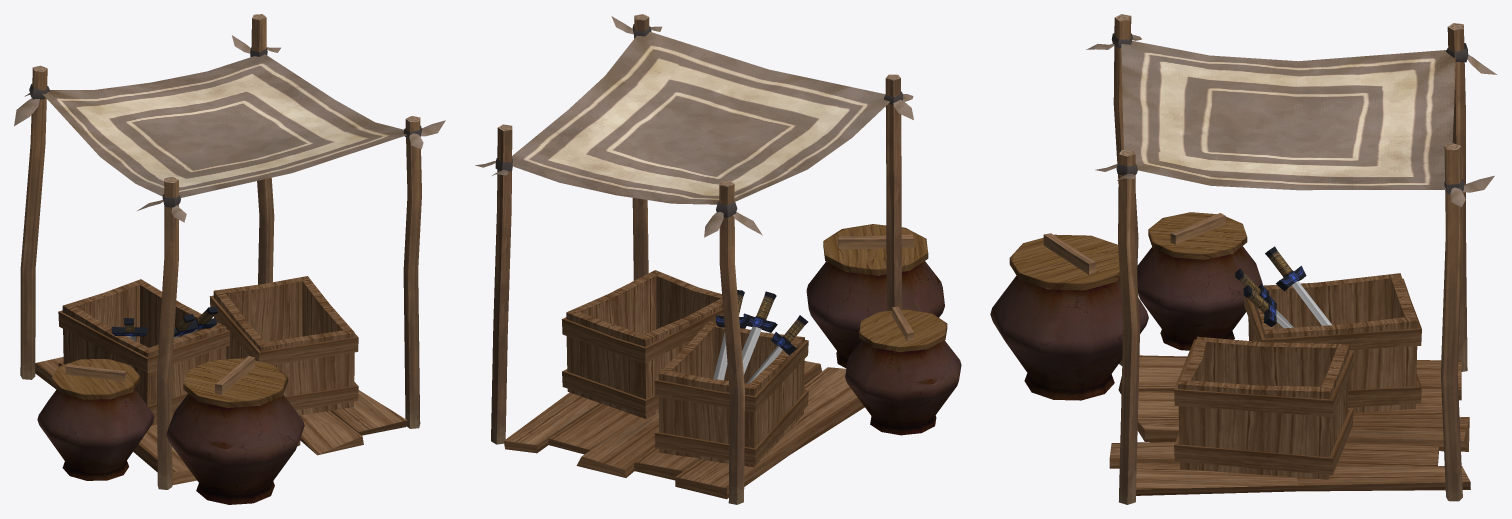
Rendered from daliang_field_a_p01b.fbx.
3 views of the same model, side by side, from view 1: azimuth 30°, elevation 25°; view 2: azimuth 150°, elevation 25°; view 3: azimuth 270°, elevation 25° (orthographic). The views are drawn at different scales.
Parts seen in each view (by area): view 1: daliang_field_a_p01b; view 2: daliang_field_a_p01b; view 3: daliang_field_a_p01b.
Part boxes in pixels (x1=…): daliang_field_a_p01b: x1=14, y1=14, x2=445, y2=504; daliang_field_a_p01b: x1=475, y1=14, x2=961, y2=504; daliang_field_a_p01b: x1=990, y1=14, x2=1497, y2=504.
Size of the model in its own units: 440 by 351 by 463.
